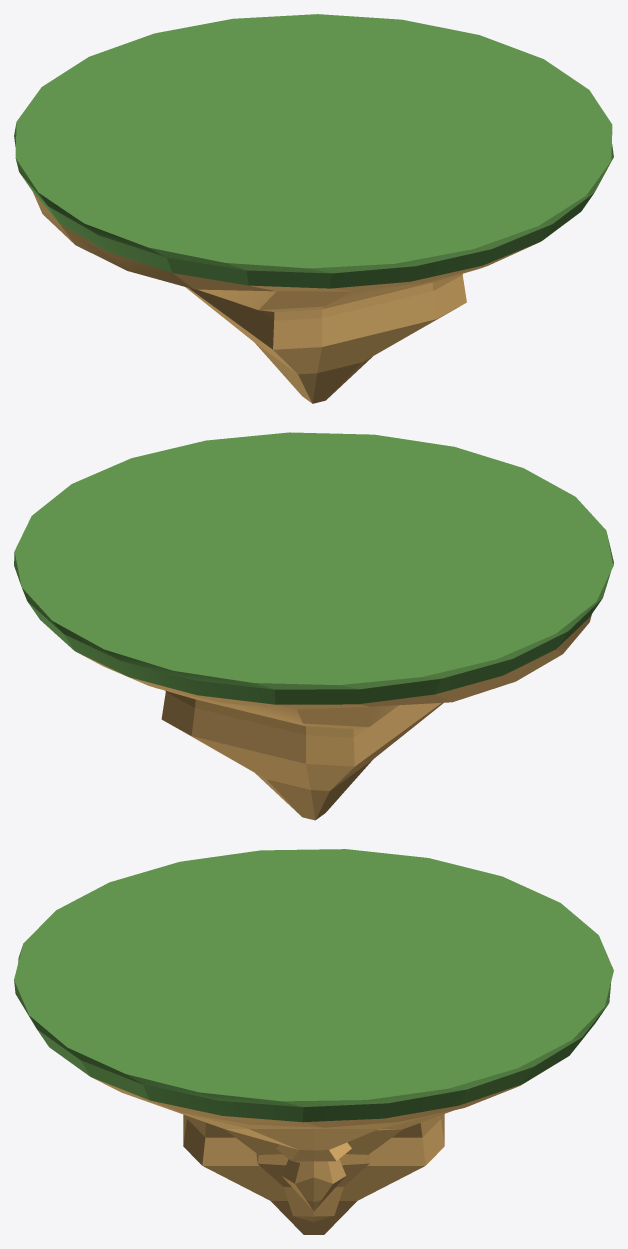
Rendered from Island.fbx.
The picture shows the model from 3 angles, top to bottom: view 1: azimuth 30°, elevation 25°; view 2: azimuth 150°, elevation 25°; view 3: azimuth 270°, elevation 25°; orthographic projection.
Visible parts, largest first — view 1: ObjBaseIland; view 2: ObjBaseIland; view 3: ObjBaseIland.
Part boxes in pixels (x1,y1,x2,y2): ObjBaseIland: (14, 14, 613, 403); ObjBaseIland: (14, 432, 613, 820); ObjBaseIland: (14, 849, 613, 1234).
Size of the model in its own units: 151 by 70.98 by 151.
